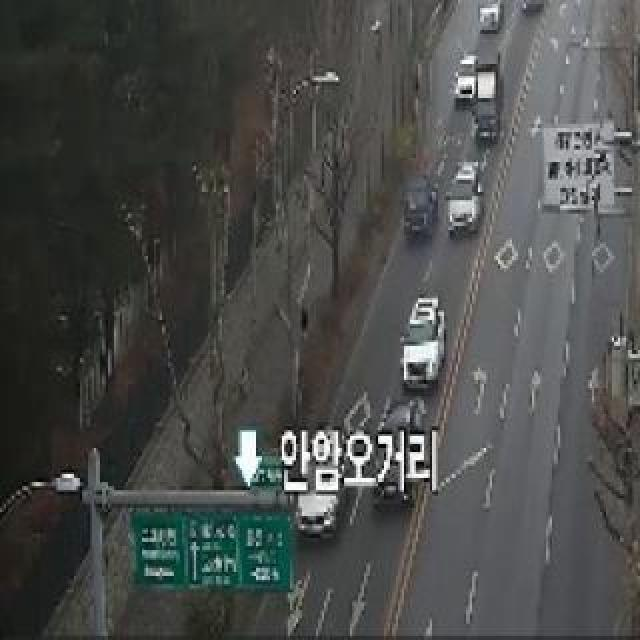truck: (471, 33, 507, 147), (405, 165, 435, 245), (520, 0, 544, 18)
